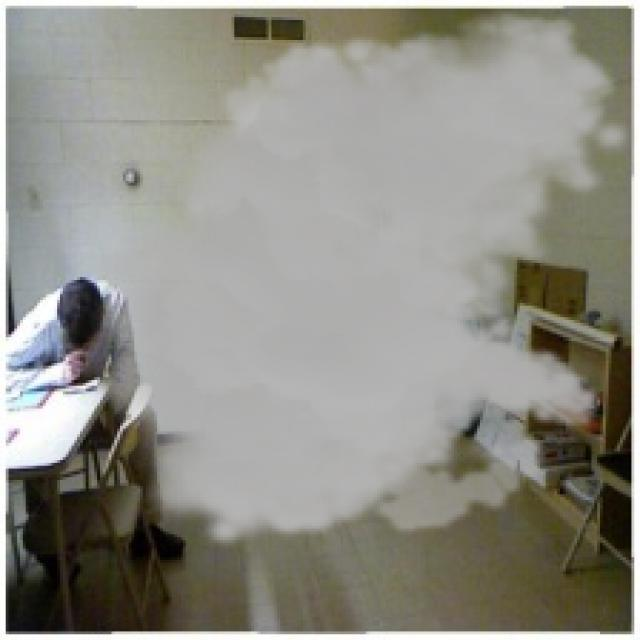Smoke: (74, 9, 637, 552)
